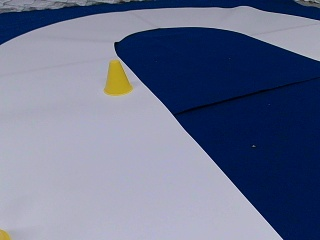cone: (103, 59, 132, 95)
